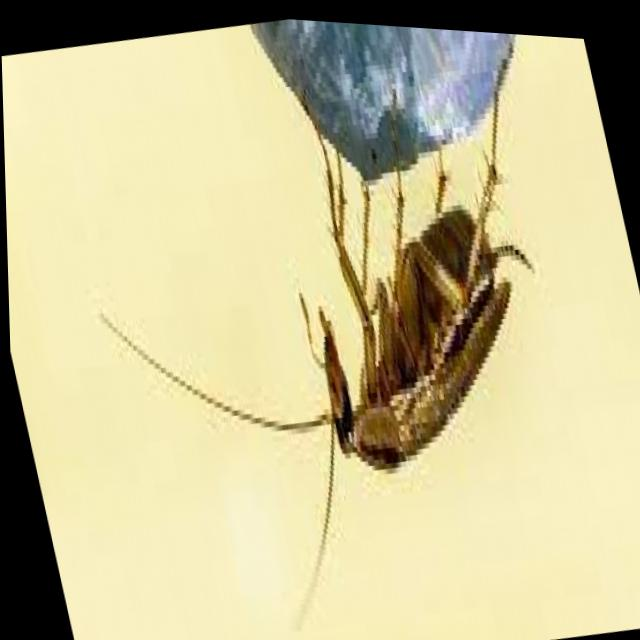Cockroach: (45, 2, 637, 640)
